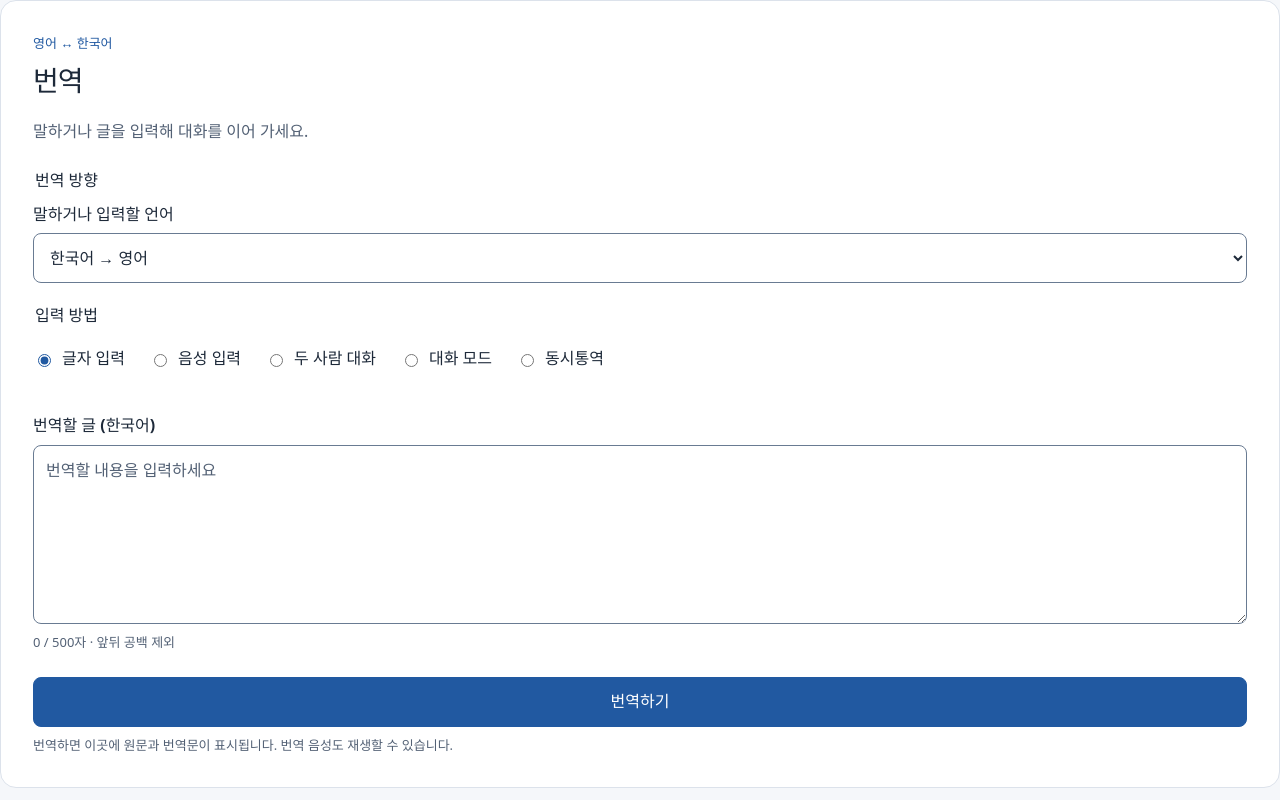
it: uses only the contract status/detail pair for 422 / Audio is longer than 30 seconds
The image size is (1280, 800).
Type "안녕하세요" into the text box labelled "번역할 글 (한국어)" at (640, 534), box x1=33 y1=445 x2=1247 y2=624
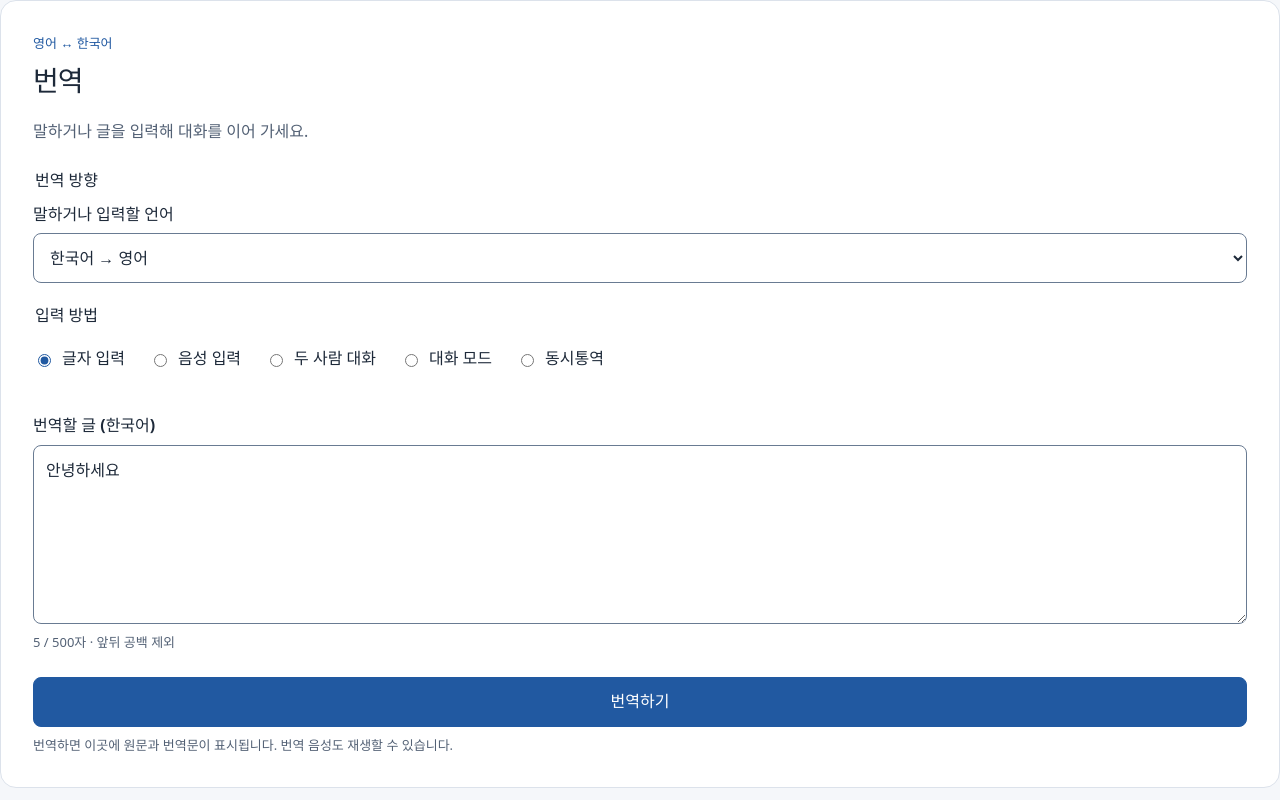
Click the button "번역하기" at (640, 702), box x1=33 y1=677 x2=1247 y2=726
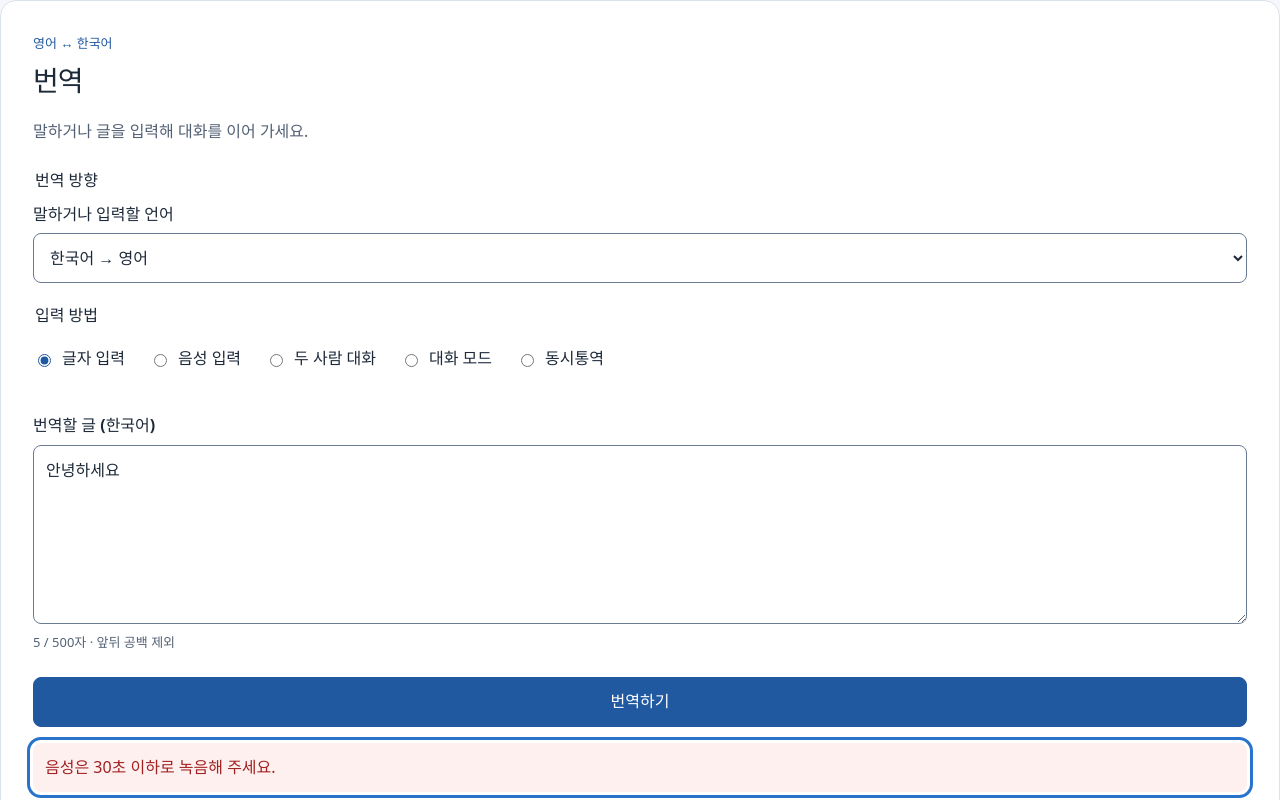
Check: the message shows "30초 이하", box x1=45 y1=756 x2=276 y2=778
